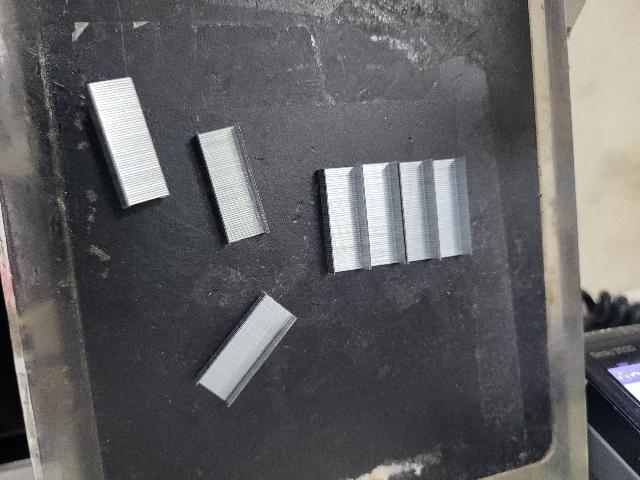Metal: (319, 158, 477, 271), (187, 288, 302, 413), (81, 71, 174, 208), (194, 123, 277, 248)
